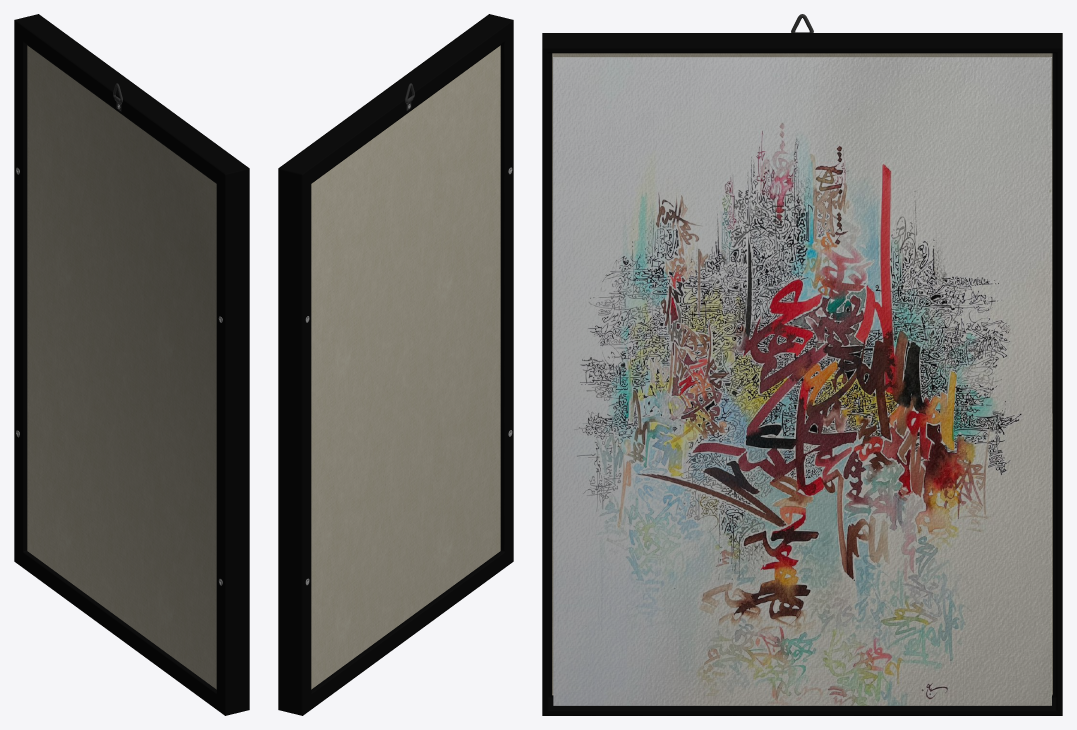
Rendered from table 3.glb.
The picture shows the model from 3 angles, left to right: view 1: azimuth 30°, elevation 25°; view 2: azimuth 150°, elevation 25°; view 3: azimuth 270°, elevation 25°; orthographic projection. The views are drawn at different scales.
Parts seen in each view (by area): view 1: Canvas.003, Frame.003; view 2: Canvas.003, Frame.003; view 3: Canvas.003, Frame.003.
Part boxes in pixels (<box>): Canvas.003: <box>27,45,216,689</box>; Frame.003: <box>14,14,249,715</box>; Canvas.003: <box>311,45,500,689</box>; Frame.003: <box>278,14,513,715</box>; Canvas.003: <box>552,53,1052,705</box>; Frame.003: <box>542,33,1062,715</box>.
Size of the model in its own units: 0.0457 by 0.8722 by 0.6.
Materials: 5 (2 with a texture image).
